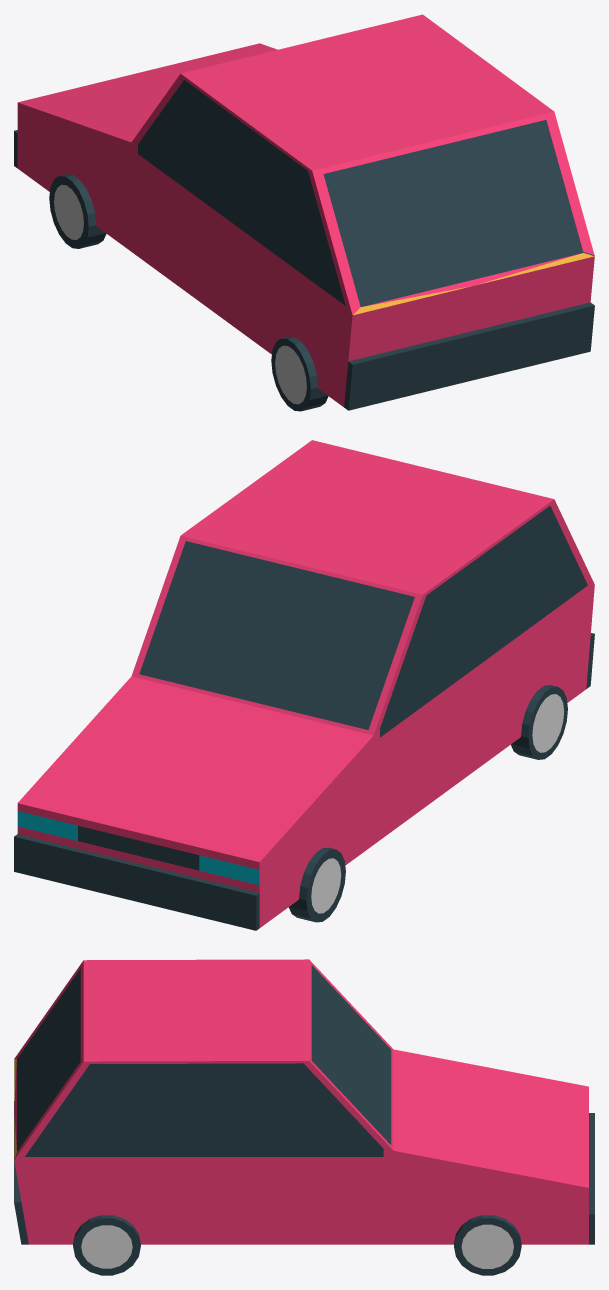
Rendered from CarPink1x1.fbx.
3 views of the same model, one above another, from view 1: azimuth 30°, elevation 25°; view 2: azimuth 150°, elevation 25°; view 3: azimuth 270°, elevation 25° (orthographic). The views are drawn at different scales.
Visible parts, largest first — view 1: CAR_03_2_3; view 2: CAR_03_2_3; view 3: CAR_03_2_3.
Part boxes in pixels (x1=…): CAR_03_2_3: x1=14, y1=14, x2=594, y2=411; CAR_03_2_3: x1=14, y1=440, x2=594, y2=930; CAR_03_2_3: x1=14, y1=959, x2=594, y2=1275.
Size of the model in its own units: 0.4304 by 0.3941 by 0.9813.
1 material, 1 textured.
